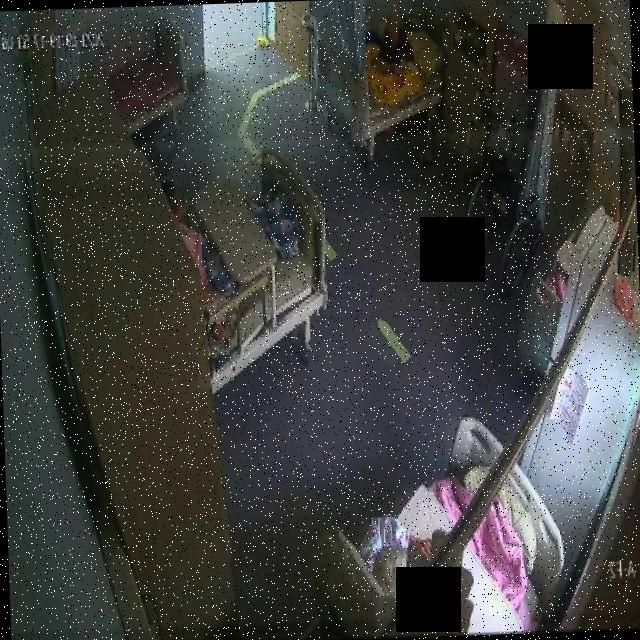bed: (327, 413, 566, 640), (190, 145, 331, 392), (316, 13, 446, 144), (105, 15, 199, 123)
